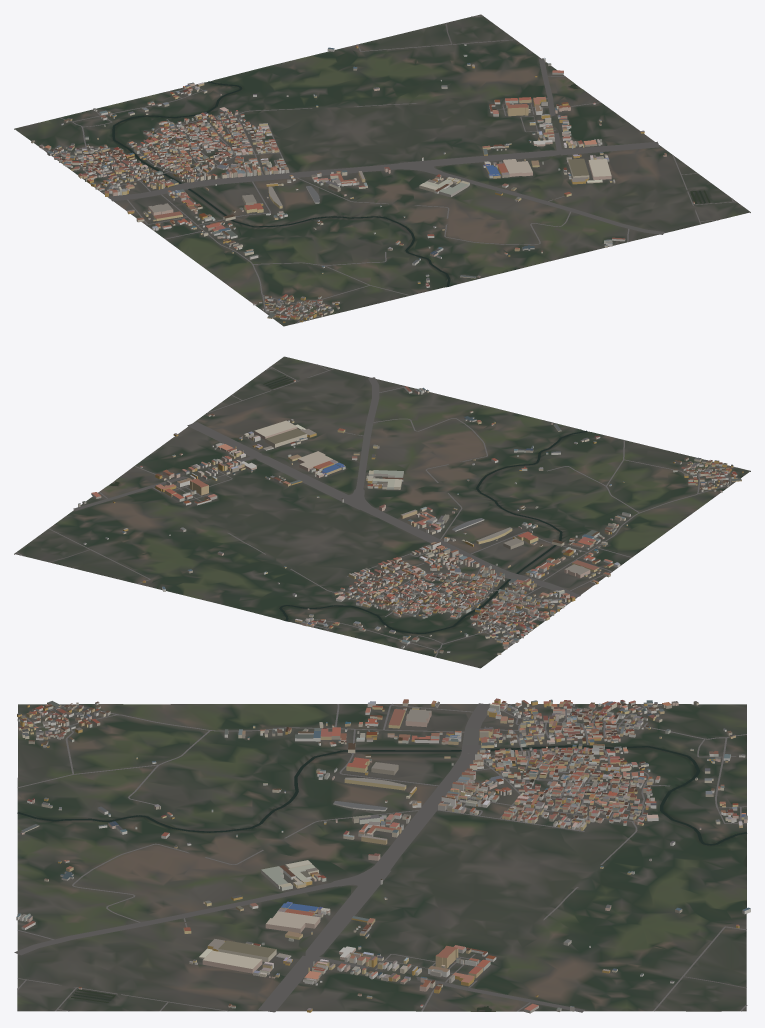
3 renders of one model, top to bottom at view 1: azimuth 30°, elevation 25°; view 2: azimuth 150°, elevation 25°; view 3: azimuth 270°, elevation 25°, orthographic. The views are drawn at different scales.
Visible parts, largest first — view 1: ground, buildings, roads, water; view 2: ground, buildings, roads, water; view 3: ground, buildings, roads, water.
Part boxes in pixels (x1,y1,x2,y2): ground: [14, 14, 750, 326]; buildings: [31, 43, 694, 322]; roads: [42, 15, 736, 322]; water: [112, 81, 710, 286]; ground: [14, 356, 750, 668]; buildings: [78, 380, 743, 654]; roads: [16, 364, 736, 657]; water: [109, 376, 587, 633]; ground: [17, 704, 746, 1011]; buildings: [16, 698, 750, 1013]; roads: [14, 703, 747, 1012]; water: [17, 745, 746, 1011].
Bounding box in the file's own units: 1420 × 28.17 × 1417.
